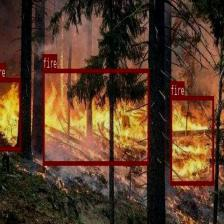fire: (42, 68, 149, 164), (170, 95, 214, 184), (0, 77, 20, 150)
